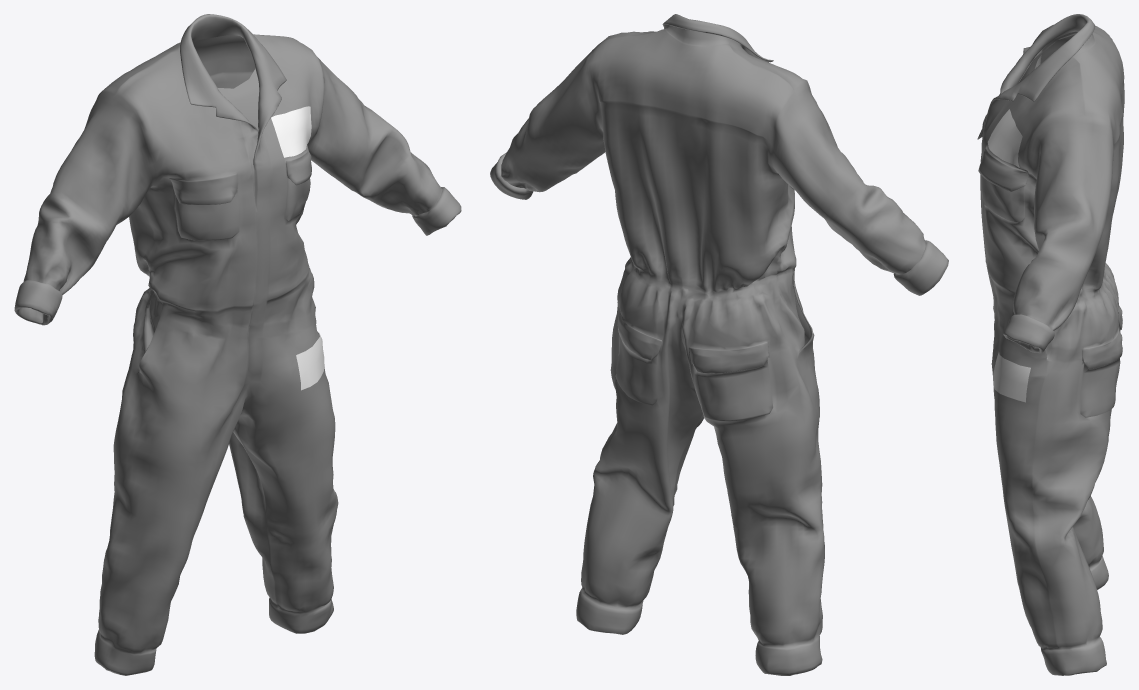
The model's file is nan_gongfu.FBX.
The picture shows the model from 3 angles, left to right: view 1: azimuth 30°, elevation 25°; view 2: azimuth 150°, elevation 25°; view 3: azimuth 270°, elevation 25°; orthographic projection. The views are drawn at different scales.
Visible parts, largest first — view 1: gongfu; view 2: gongfu; view 3: gongfu.
Part boxes in pixels (x1,y1,x2,y2): gongfu: (14, 14, 461, 675); gongfu: (490, 14, 948, 675); gongfu: (977, 14, 1124, 675).
Size of the model in its own units: 103 by 139 by 30.36.
